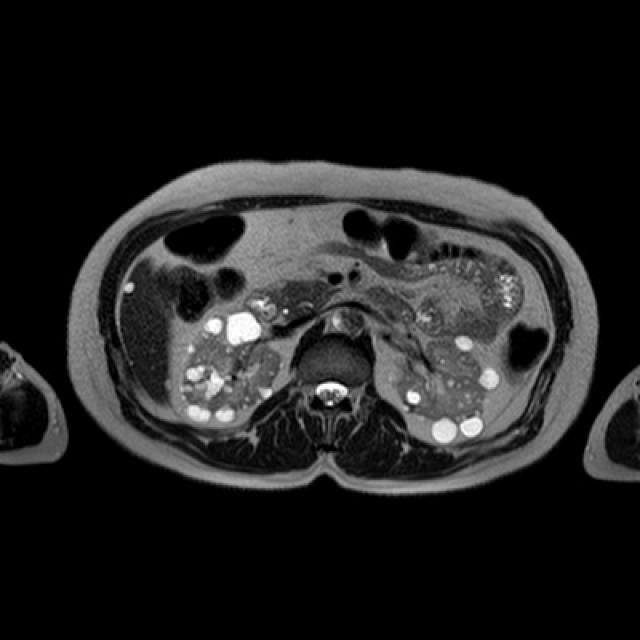sag: (176, 307, 286, 427)
sol: (393, 336, 501, 445)
